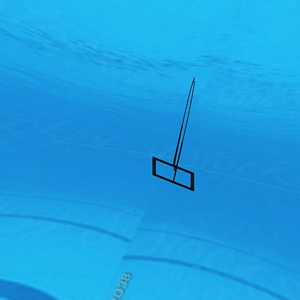circle: (151, 75, 206, 197)
